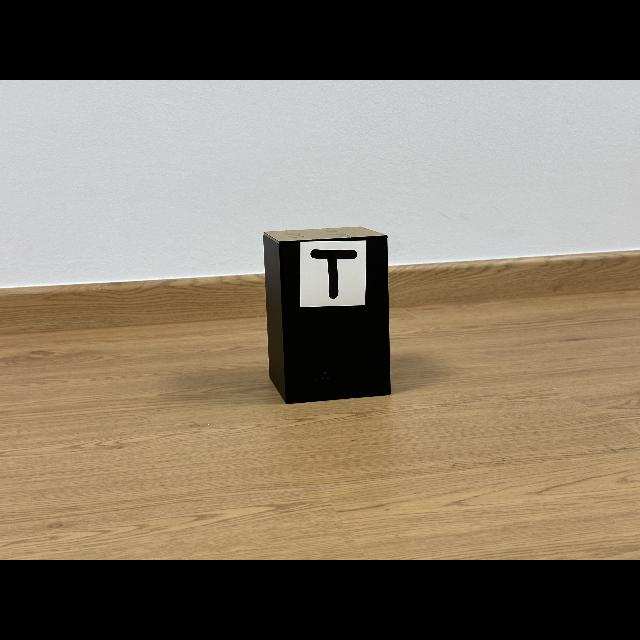T: (310, 249, 358, 299)
